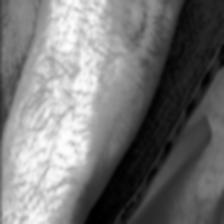Toxin: (114, 0, 150, 60)
